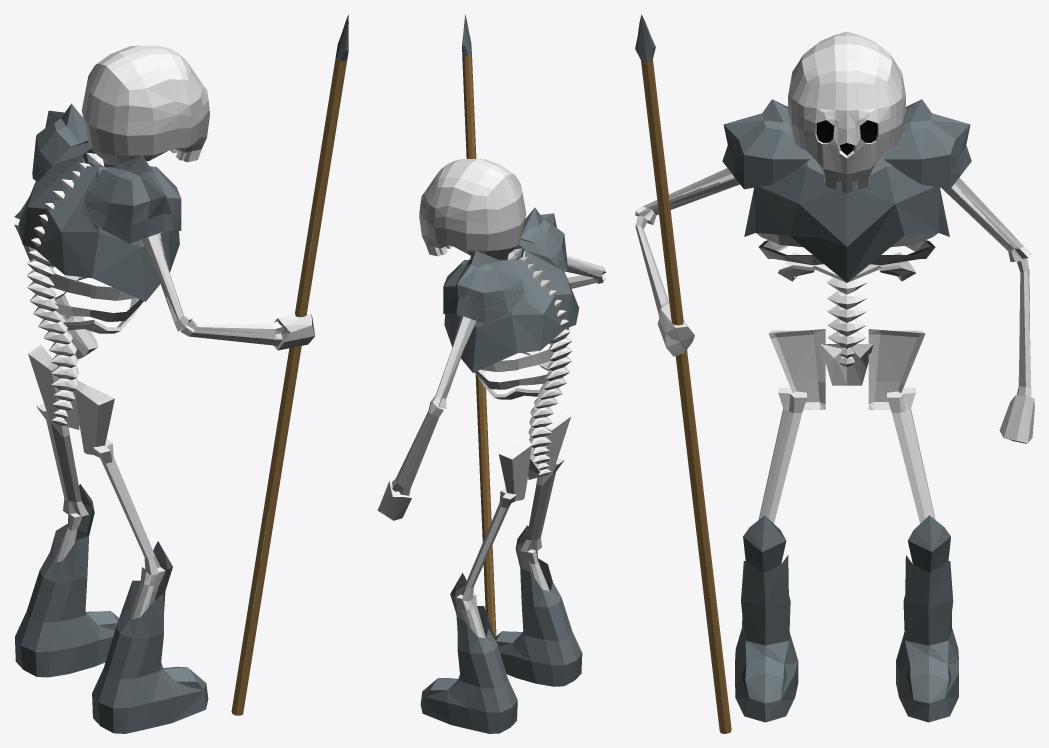
The model's file is SKELETON_BASE_proto.obj.
3 views of the same model, side by side, from view 1: azimuth 30°, elevation 25°; view 2: azimuth 150°, elevation 25°; view 3: azimuth 270°, elevation 25° (orthographic). The views are drawn at different scales.
Parts seen in each view (by area): view 1: Cube.003_Cube.005; view 2: Cube.003_Cube.005; view 3: Cube.003_Cube.005.
Boxes of the visible parts, x1,y1,x2,y2 form: Cube.003_Cube.005: [14, 14, 348, 733]; Cube.003_Cube.005: [377, 14, 606, 733]; Cube.003_Cube.005: [635, 14, 1034, 733].
Size of the model in its own units: 2.56 by 7.71 by 3.7.
1 material, 1 textured.
